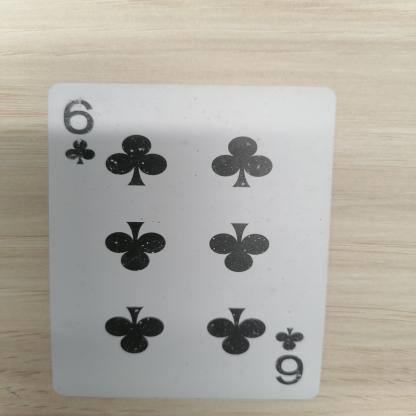6C: (56, 94, 113, 174), (276, 320, 320, 392)
